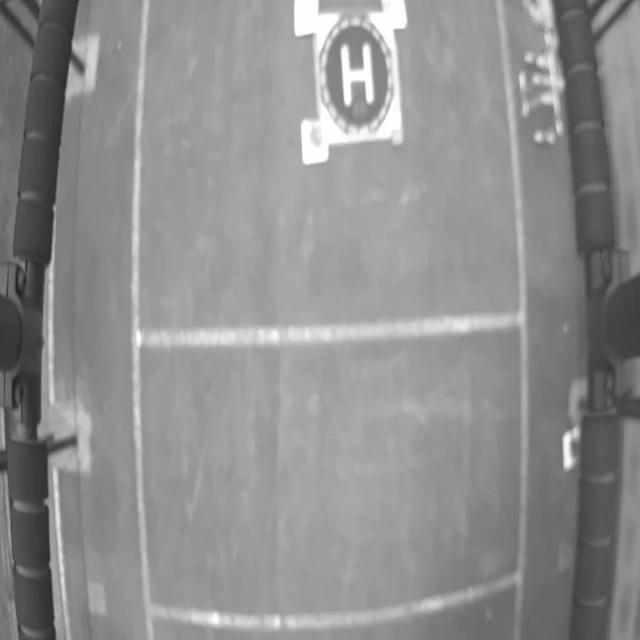Helipad: (340, 43, 374, 107)
